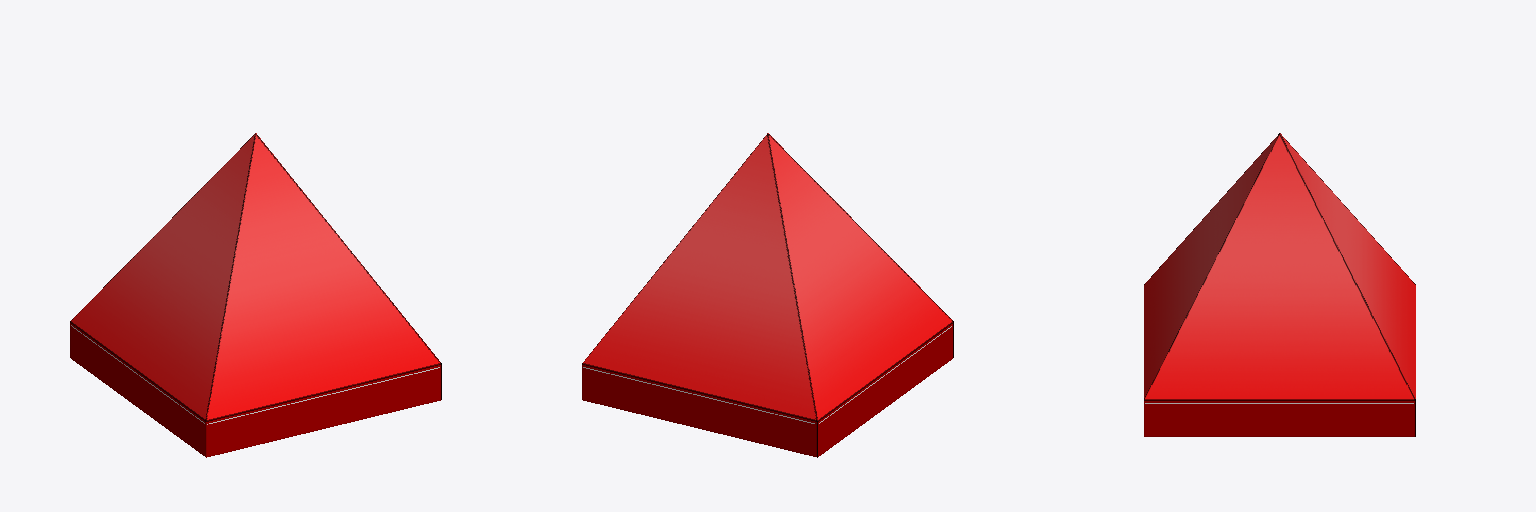
3 views of the same model, side by side, from view 1: azimuth 30°, elevation 25°; view 2: azimuth 150°, elevation 25°; view 3: azimuth 270°, elevation 25° (orthographic).
Visible parts, largest first — view 1: Cube; view 2: Cube; view 3: Cube.
Part boxes in pixels (x1,y1,x2,y2): Cube: (70,133,441,457); Cube: (582,133,953,457); Cube: (1144,133,1415,436).
Bounding box in the file's own units: 2 × 2 × 2.
1 materials, 1 textured.